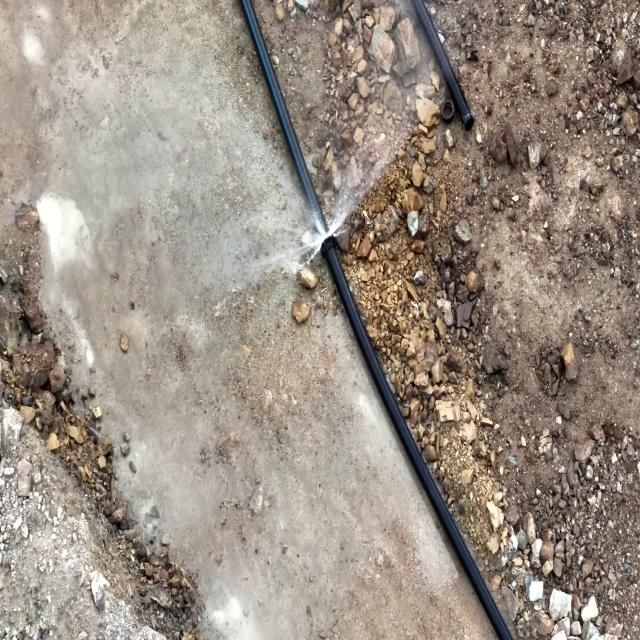leak: (257, 132, 398, 278)
